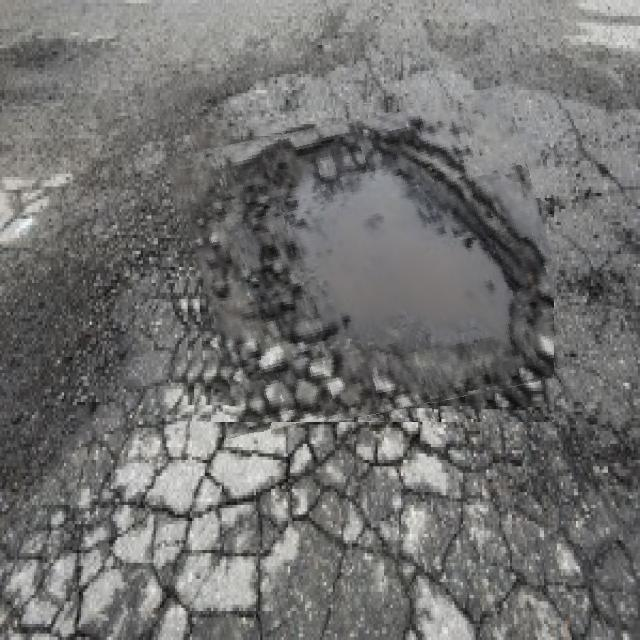Pothole: (177, 101, 554, 422)
